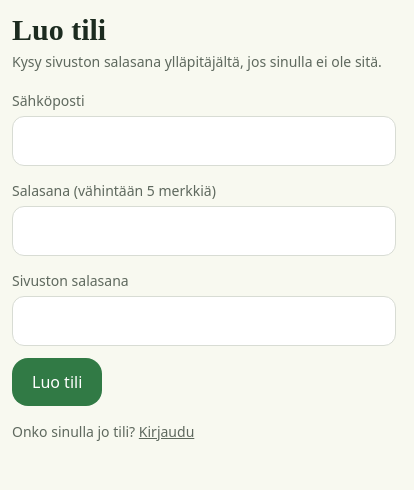
Test: Register › surfaces the server error
The image size is (414, 490).
Type "a@b.c" into the field labelled "Sähköposti". click: (204, 141)
box: [12,116,396,166]
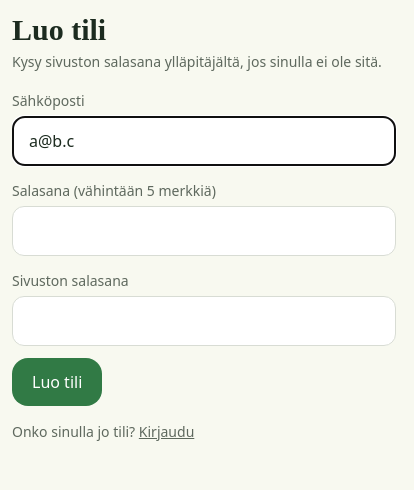
Type "a-good-password" into the password field labelled "Salasana (vähintään 5 merkkiä)". click: (204, 231)
box: [12,206,396,256]
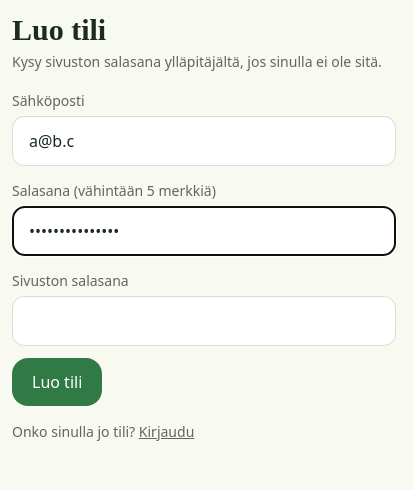
Type "site-secret" into the password field labelled "Sivuston salasana". click: (204, 321)
box: [12,296,396,346]
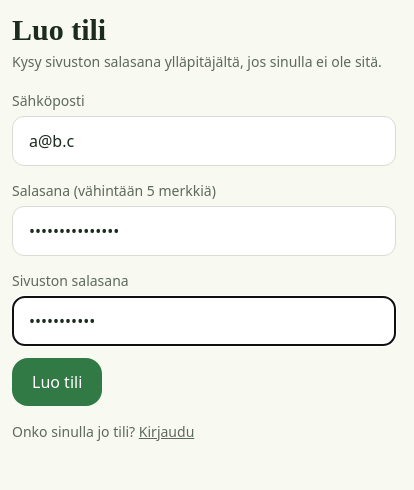
Click the button "Luo tili". click: (57, 382)
box: [12,358,102,406]
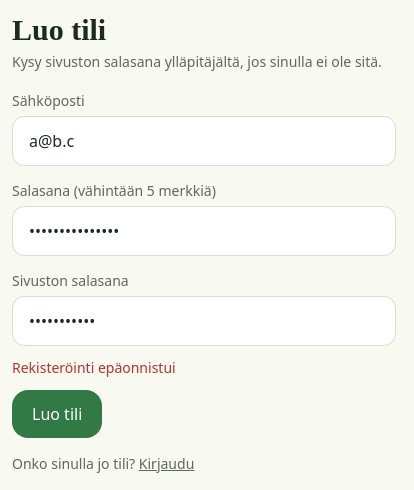
Expected: the text "Rekisteröinti epäonnistui" is shown, [12,358,176,377]
